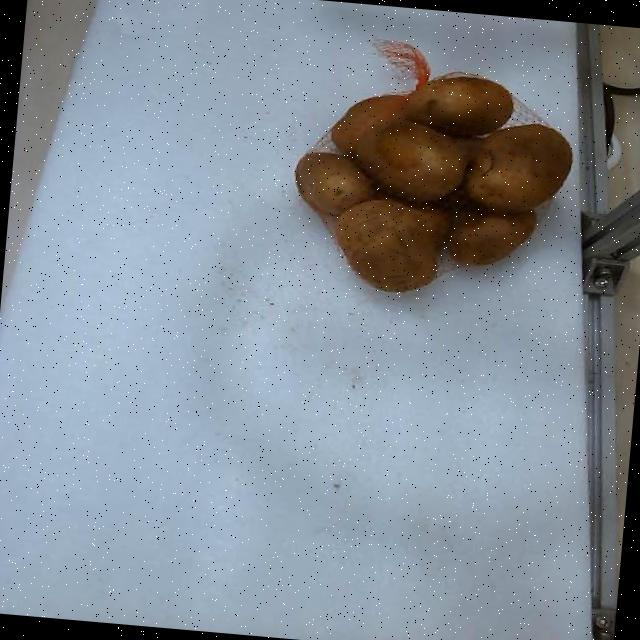potato: (335, 197, 449, 291), (465, 123, 571, 210), (356, 118, 466, 201), (405, 76, 512, 136), (294, 151, 374, 215), (446, 209, 534, 265), (331, 93, 407, 156)
